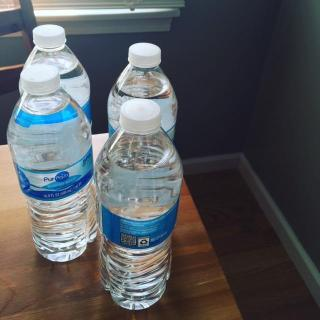Plastic-bottle: (5, 69, 101, 269), (94, 101, 181, 317), (108, 45, 182, 202), (18, 23, 95, 145)
